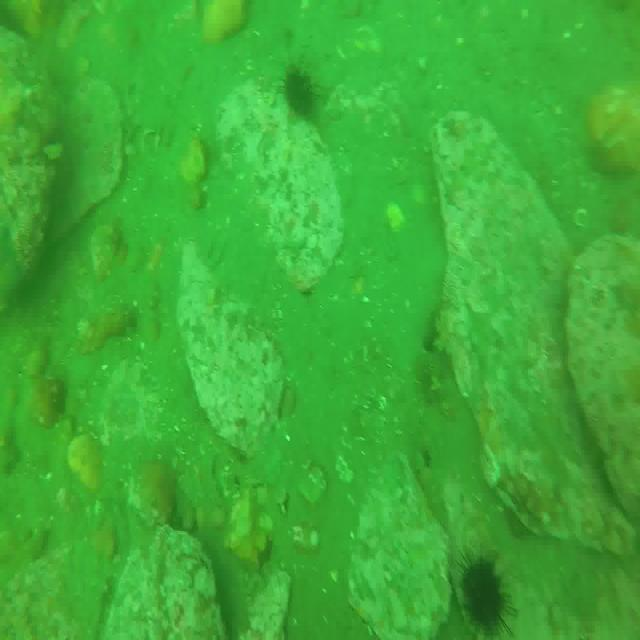echinus: (456, 546, 508, 639), (283, 65, 316, 123)
